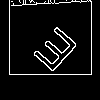E: (25, 25, 80, 82)
